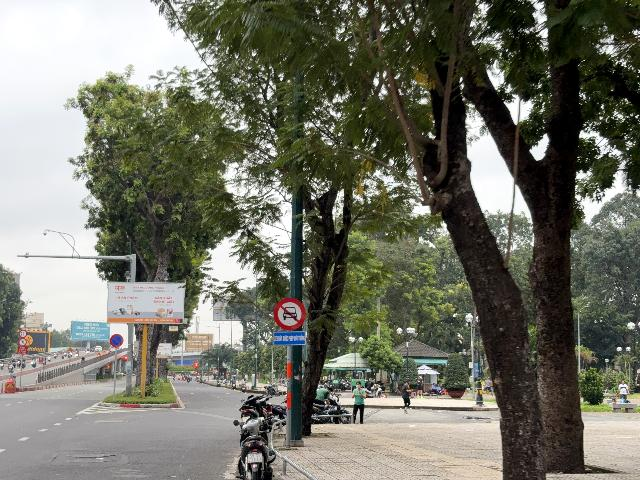cam-o-to: (274, 298, 306, 330)
